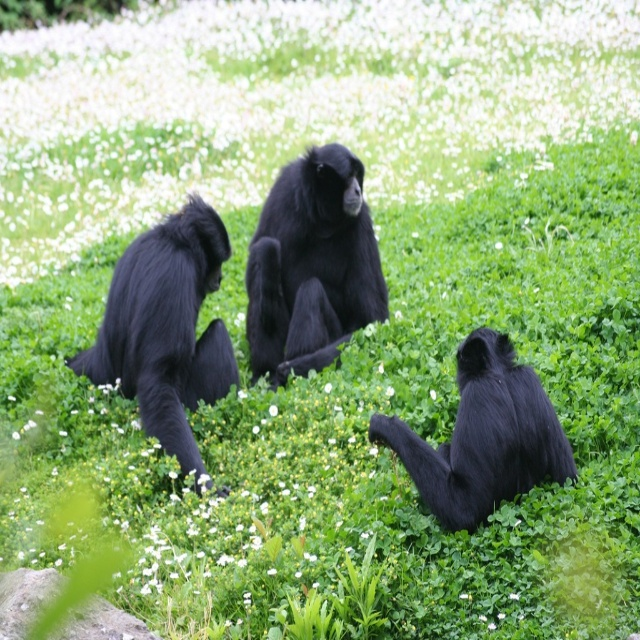Monkey: (64, 189, 239, 500), (368, 328, 578, 536), (245, 143, 389, 392)
